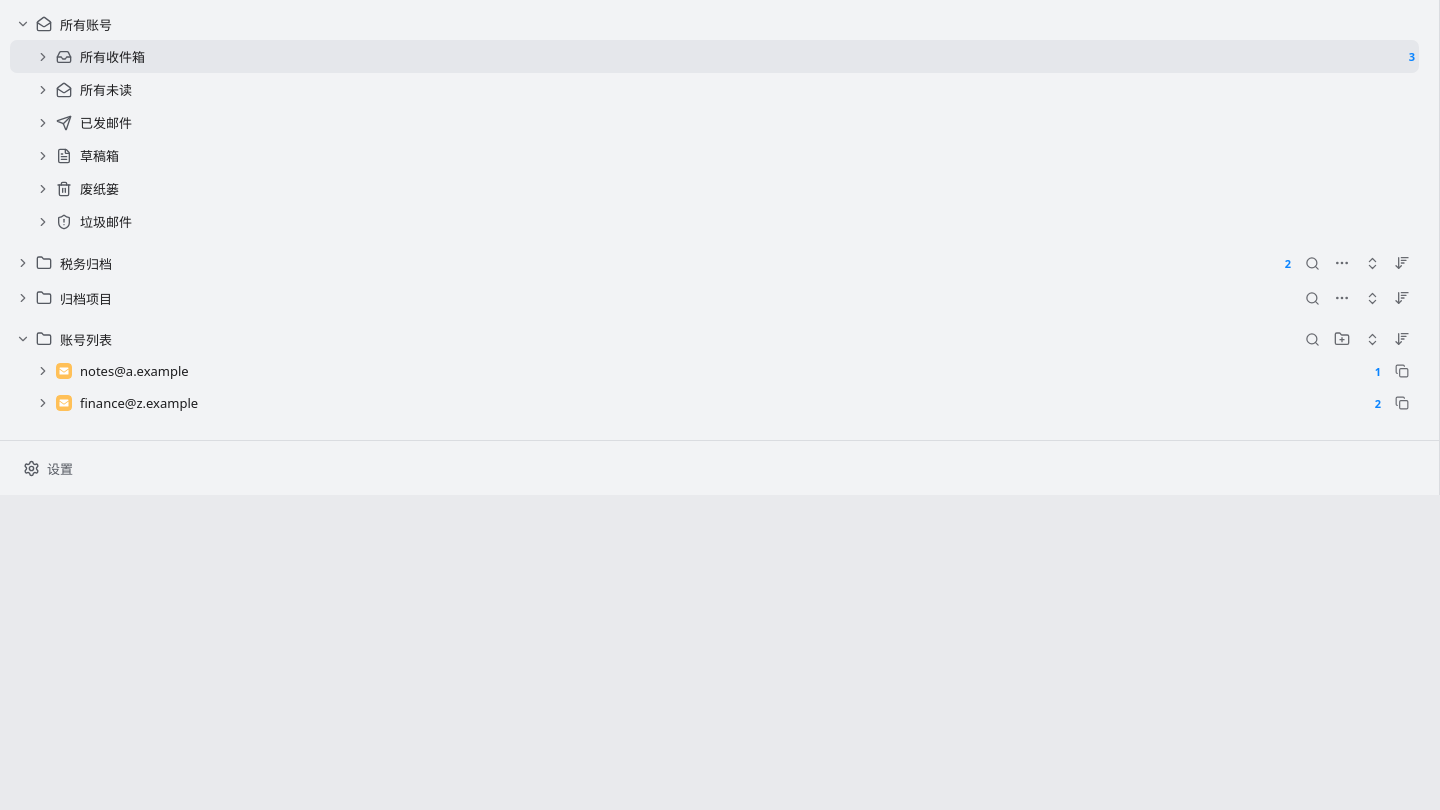
Test case: <Sidebar /> › renders inbox before unread, followed by other folders with aligned indent (p051)
Click the 12th button with class "tree-disclosure" at x=43, y=403, box [34, 390, 52, 416]
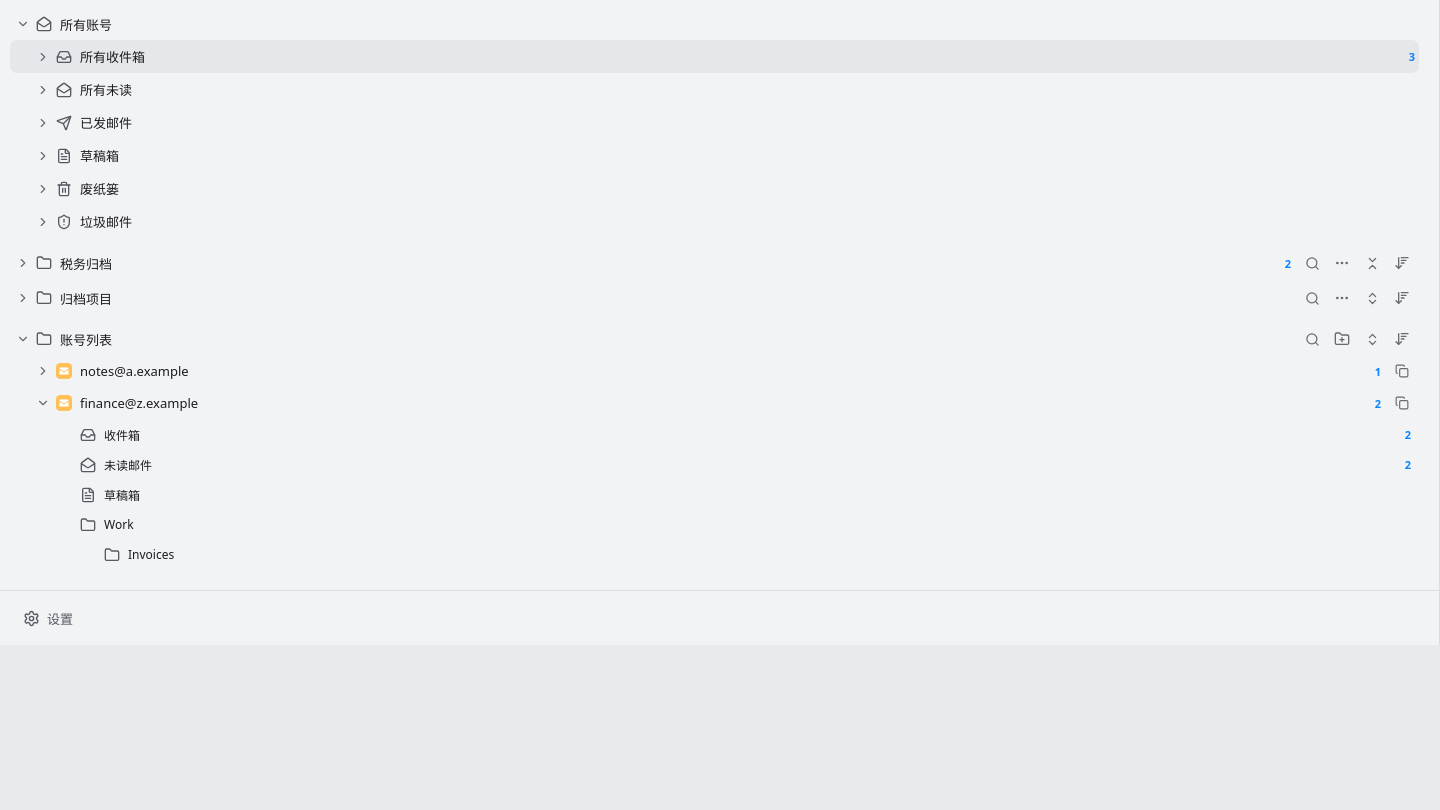
Expected: the element with class "tree-account-block" shows "收件箱", [10, 420, 1419, 449]
